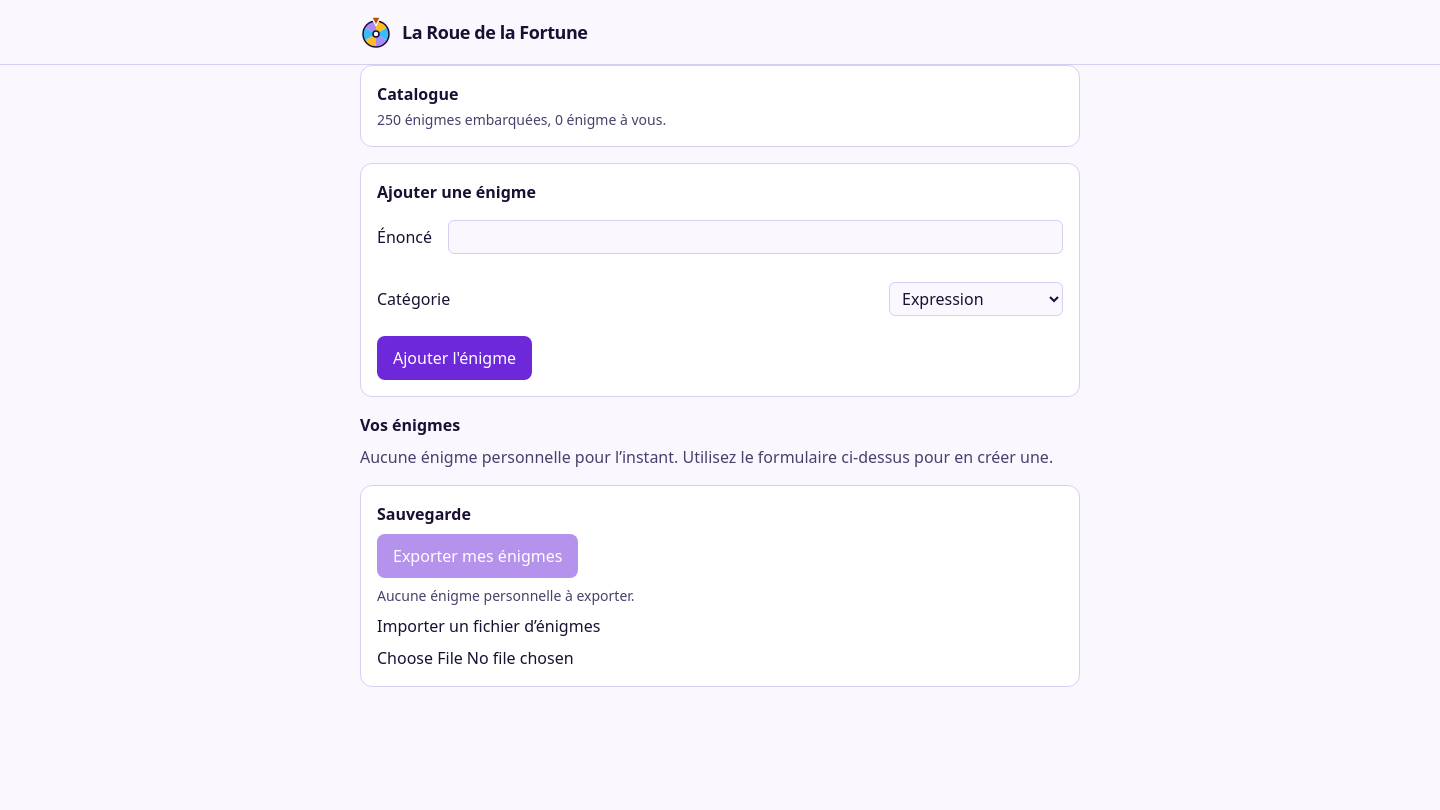
Test case: PuzzleEditorRoute › ajoute une énigme valide, qui apparaît dans la liste et incrémente le compte
In the field labelled "Énoncé": (756, 237) [448, 220, 1063, 254], type "MAISON DE CAMPAGNE"
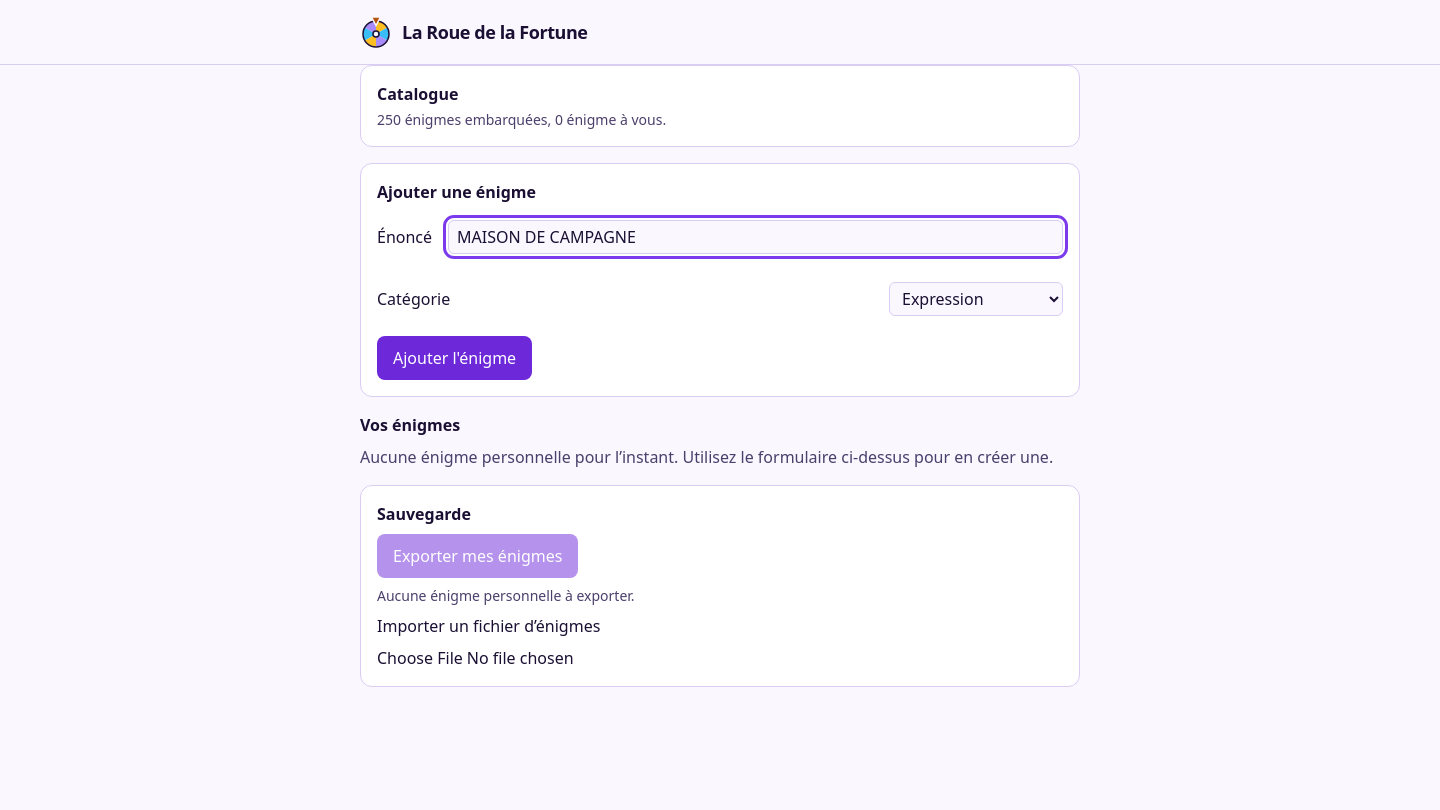
Click the button "Ajouter l'énigme": (455, 358) [377, 336, 532, 380]
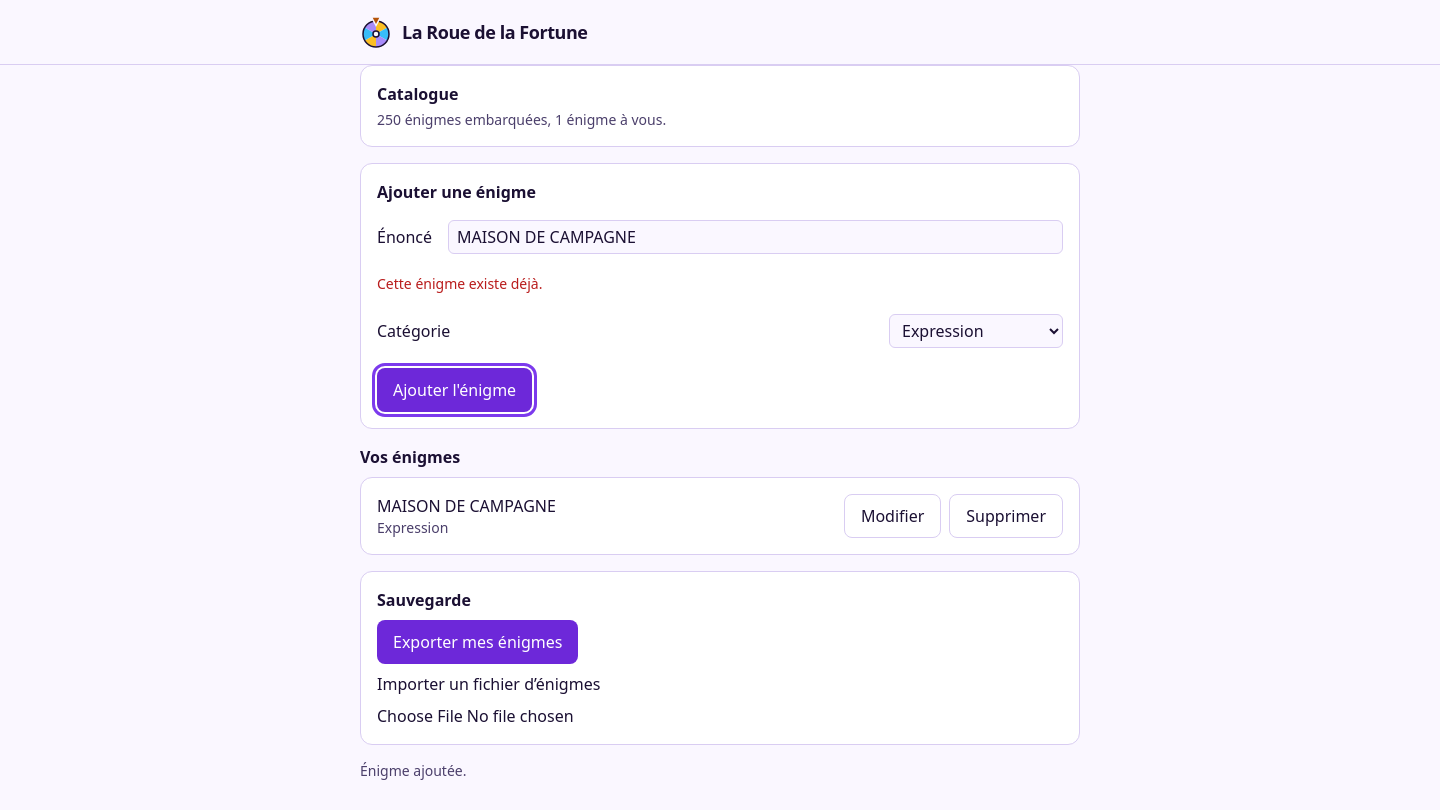
Expected: the text "MAISON DE CAMPAGNE" is shown, [377, 494, 556, 518]
